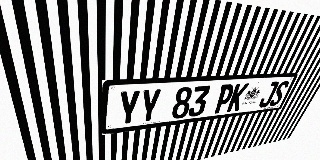3: (187, 85, 211, 117)
8: (171, 86, 194, 119)
J: (257, 81, 280, 108)
K: (226, 83, 249, 112)
P: (212, 84, 236, 114)
S: (268, 81, 290, 106)
Y: (117, 90, 141, 126), (138, 88, 162, 124)
